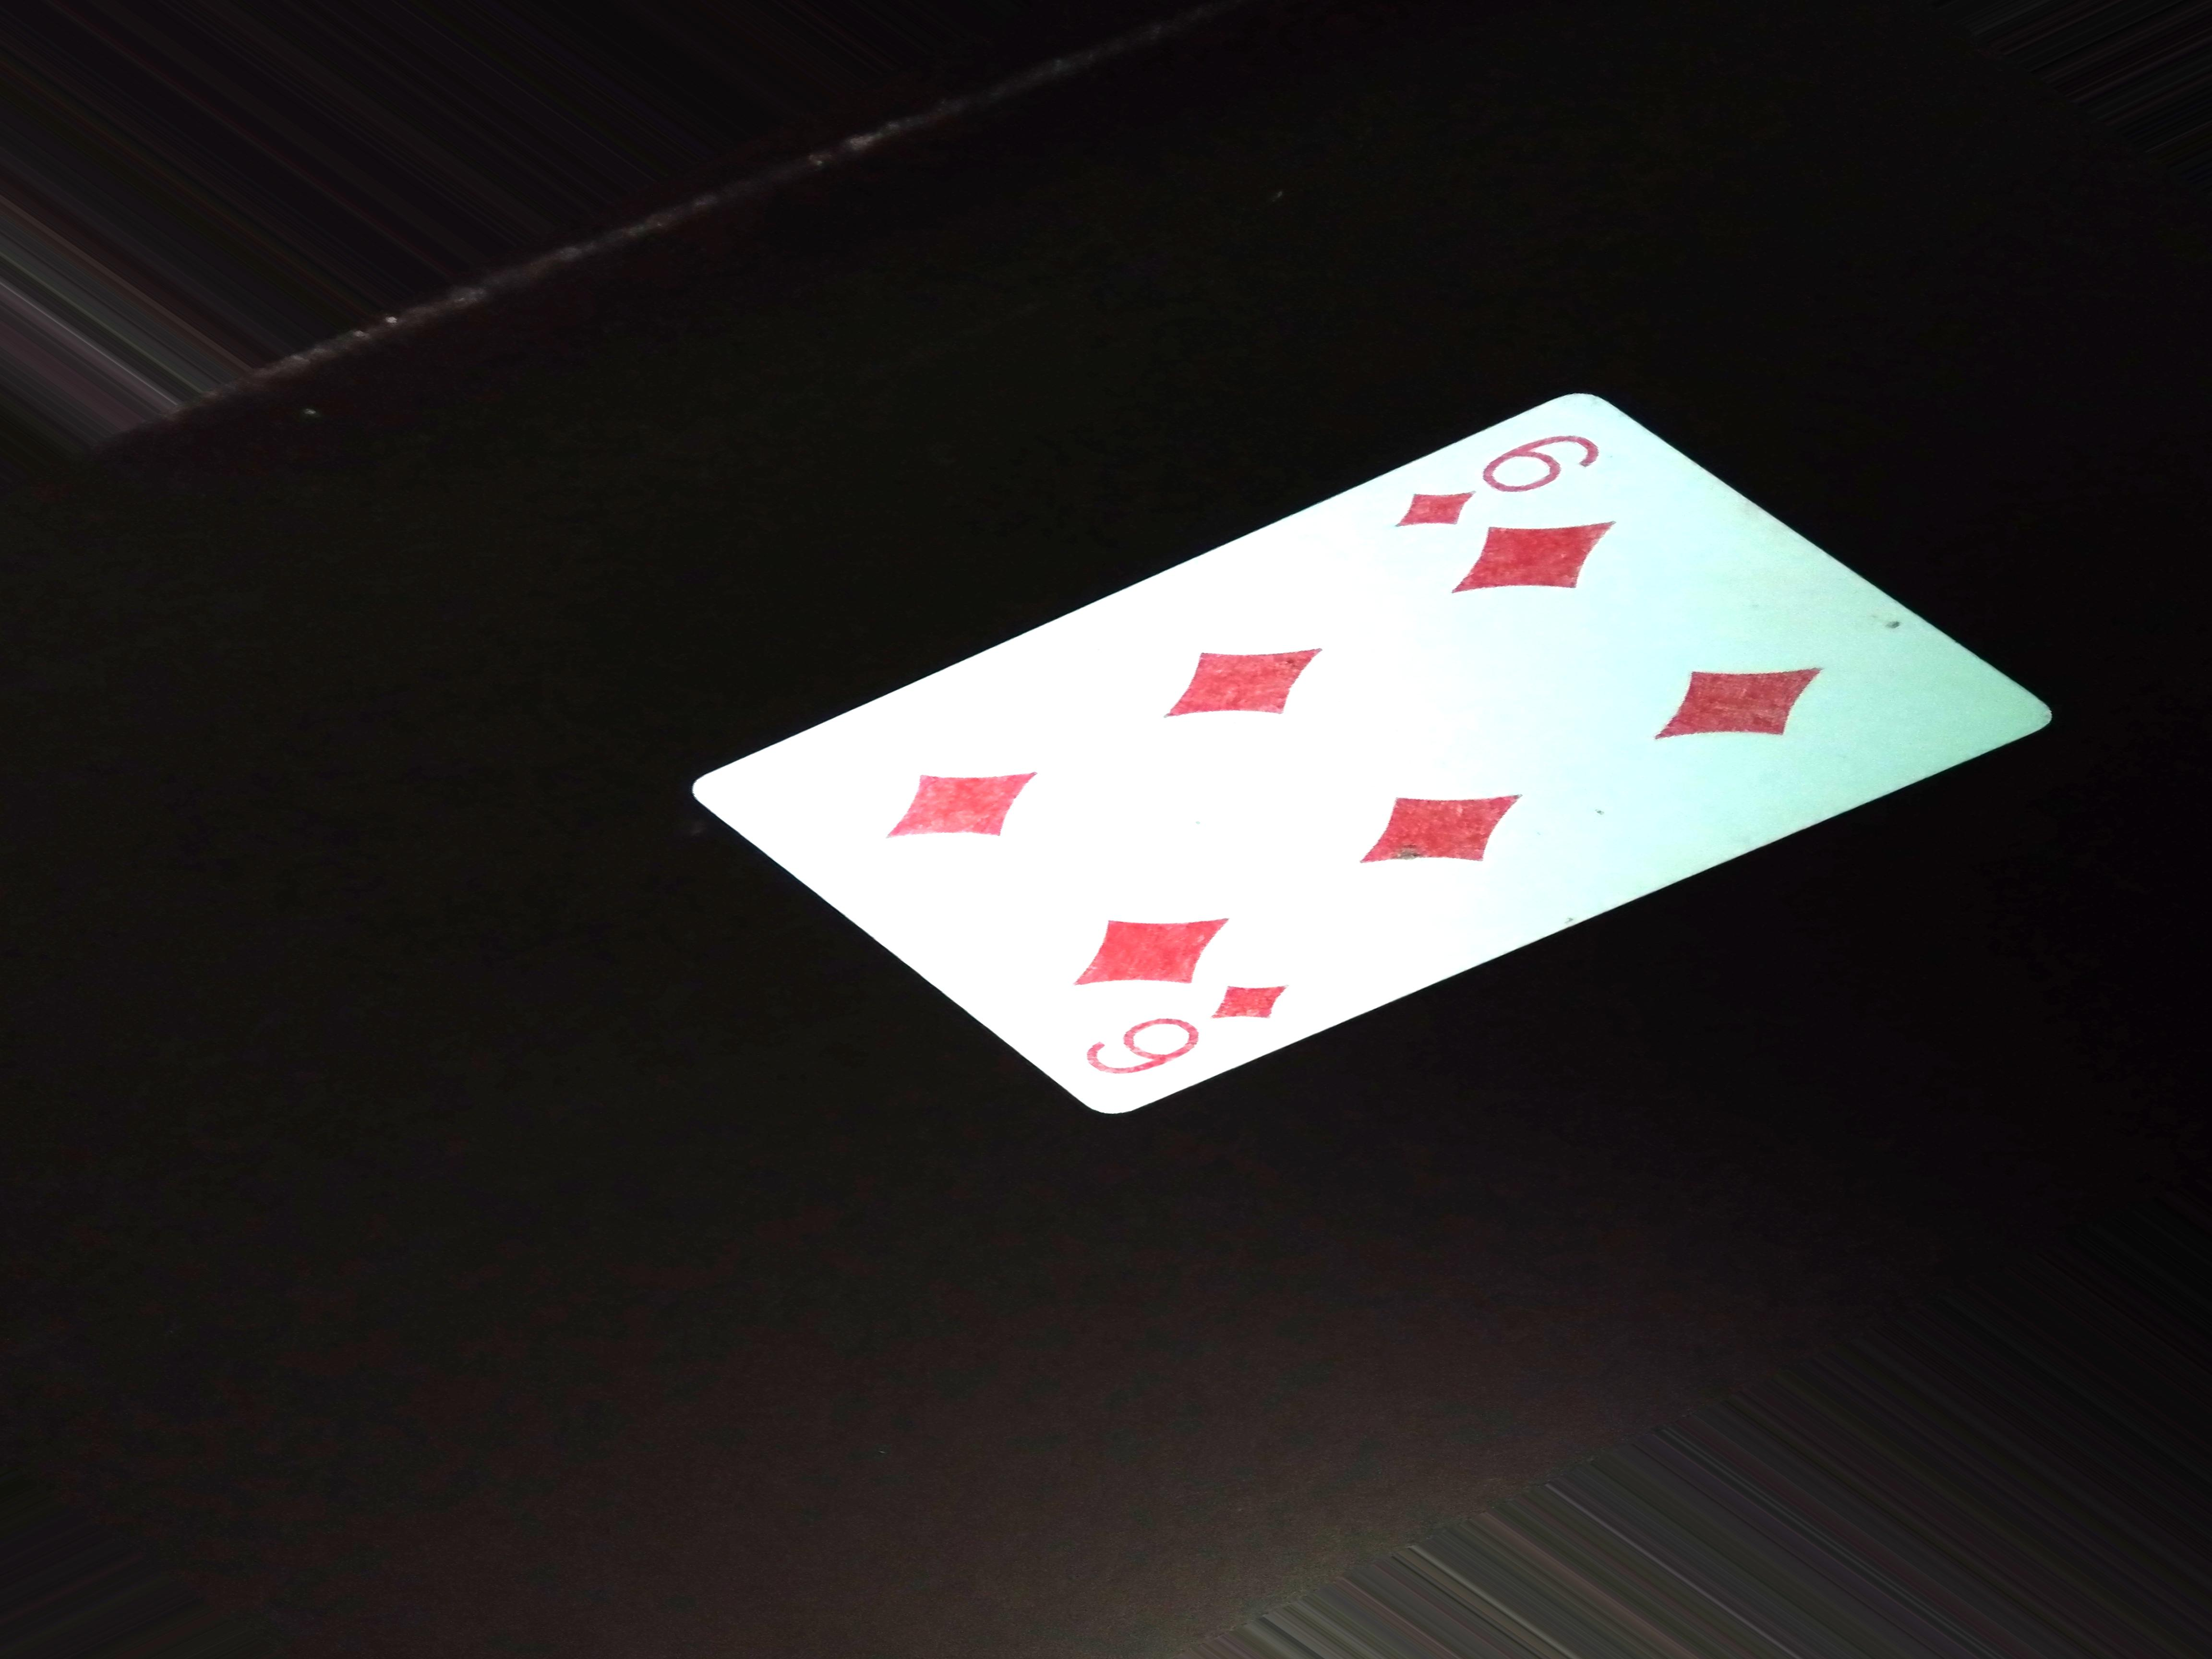6D: (1385, 404, 1615, 549)
